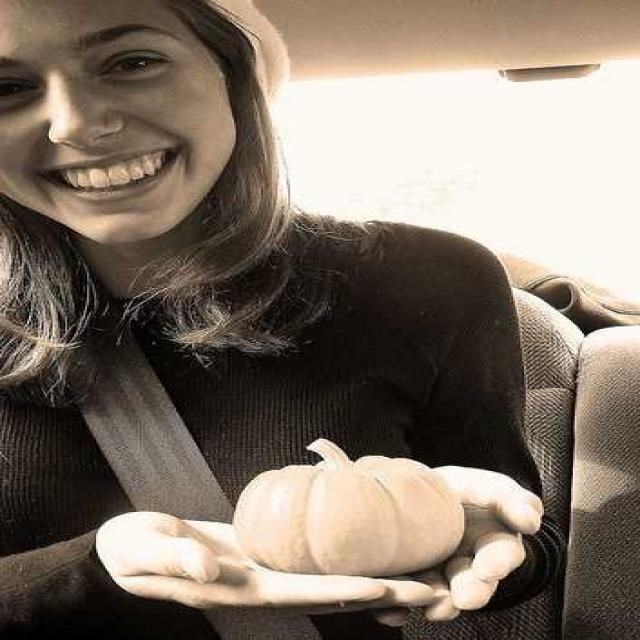seatbelt: (43, 268, 303, 600)
